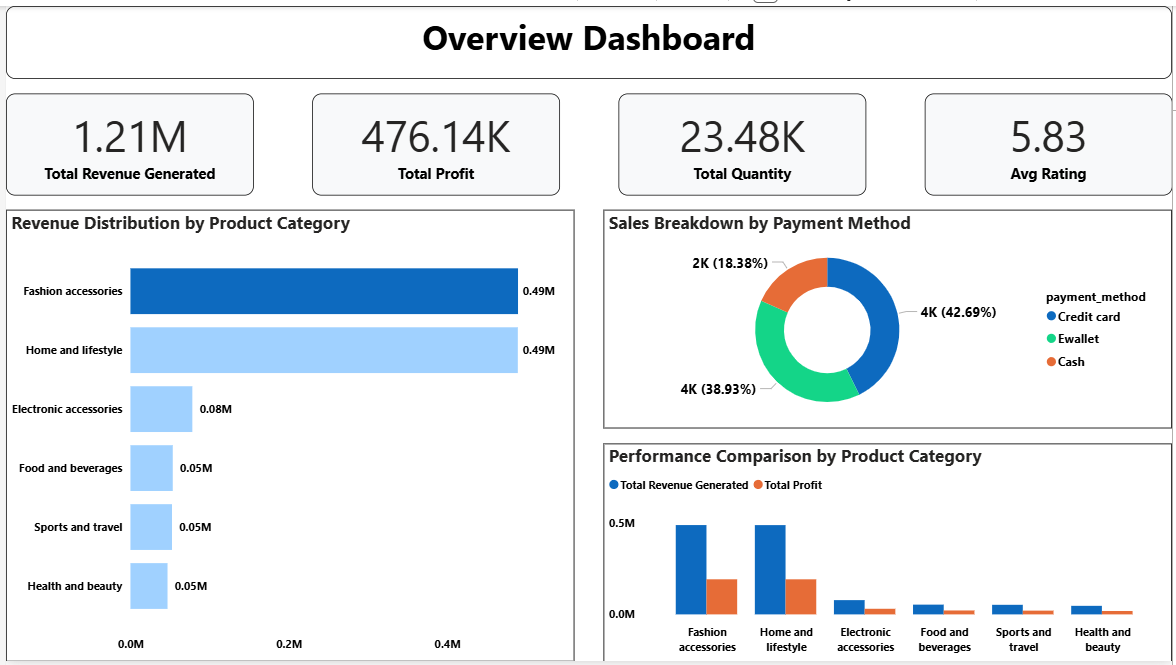

Layout of this report page (visuals, bound fields, positions):
{"tool":"powerbi","page":{"name":"Page 1","canvas":[1280,720],"ordinal":0},"visuals":[{"type":"card","fields":{"Values":["Calculated_Measures.Total Revenue"]},"box":[0,96,272,112],"z":0},{"type":"donutChart","title":"Sales Breakdown by Payment Method","fields":{"Y":["Calculated_Measures.Transaction Count"],"Category":["Walmart_Sales.payment_method"]},"box":[656,224,624,240],"z":1000},{"type":"clusteredColumnChart","title":"Performance Comparison by Product Category","fields":{"Category":["Walmart_Sales.category"],"Y":["Calculated_Measures.Total Revenue Generated","Calculated_Measures.Total Profit"]},"box":[656,480,624,240],"z":2000},{"type":"card","fields":{"Values":["Calculated_Measures.Total Profit"]},"box":[336,96,272,112],"z":3000},{"type":"card","fields":{"Values":["Calculated_Measures.Total Quantity"]},"box":[672,96,272,112],"z":4000},{"type":"card","fields":{"Values":["Calculated_Measures.Avg Rating"]},"box":[1008,96,272,112],"z":5000},{"type":"textbox","box":[0,0,1280,80],"z":6000},{"type":"barChart","title":"Revenue Distribution by Product Category","fields":{"Category":["Walmart_Sales.category"],"Y":["Calculated_Measures.Total Revenue"]},"box":[0,224,624,496],"z":8000}]}

Visuals, with their boxes in screenshot pixels (x1, y1, x2, y2), scaled from the page's 1280x720 canvas onto the 1176x665 screenshot:
card - Calculated_Measures.Total Revenue: [0, 89, 250, 192]
"Sales Breakdown by Payment Method" donutChart: [603, 207, 1175, 429]
"Performance Comparison by Product Category" clusteredColumnChart: [603, 443, 1175, 664]
card - Calculated_Measures.Total Profit: [309, 89, 559, 192]
card - Calculated_Measures.Total Quantity: [617, 89, 867, 192]
card - Calculated_Measures.Avg Rating: [926, 89, 1175, 192]
textbox: [0, 0, 1175, 74]
"Revenue Distribution by Product Category" barChart: [0, 207, 573, 664]
